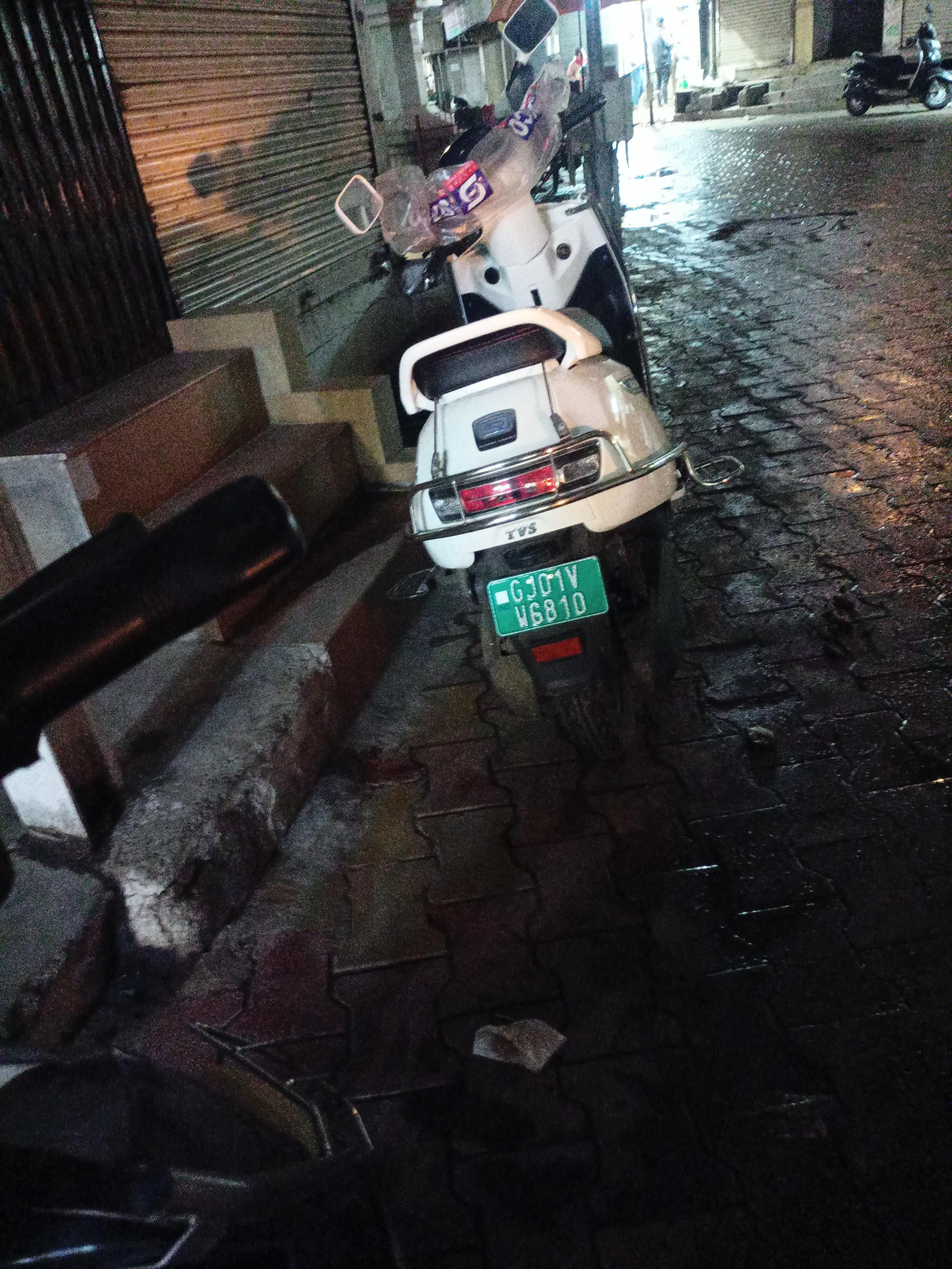green license plate: (472, 561, 613, 637)
